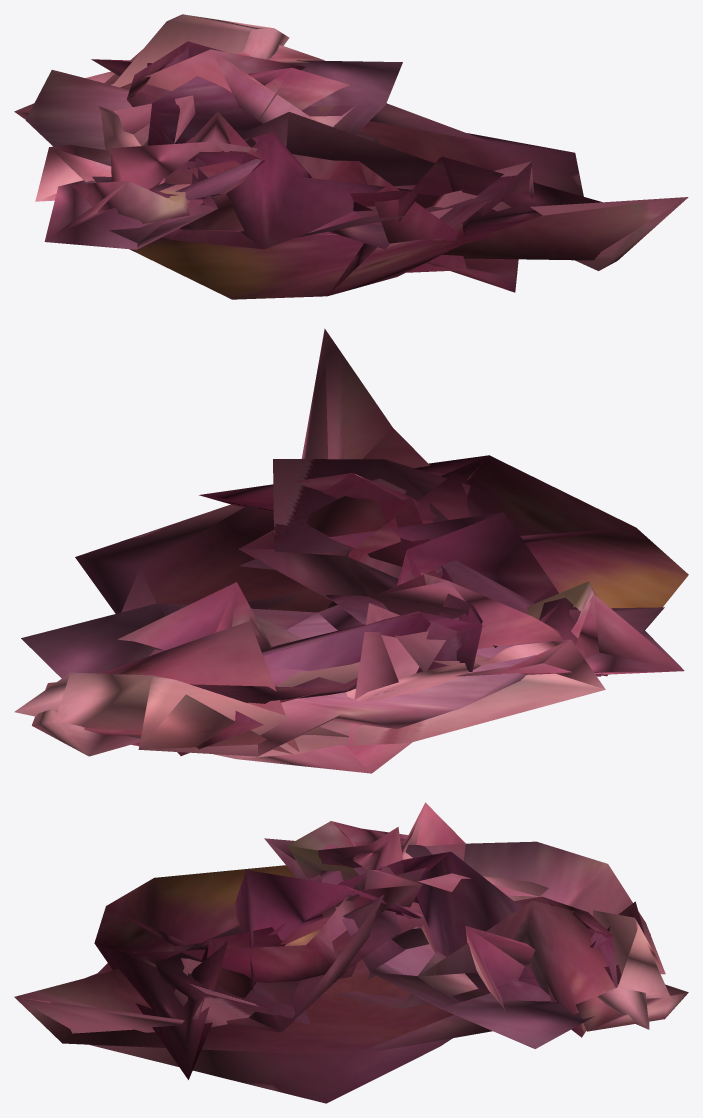
Rendered from Diced_Potato_with_Potato_and_Red_potato.obj.
The picture shows the model from 3 angles, top to bottom: view 1: azimuth 30°, elevation 25°; view 2: azimuth 150°, elevation 25°; view 3: azimuth 270°, elevation 25°; orthographic projection. The views are drawn at different scales.
Parts seen in each view (by area): view 1: Diced_Potato_with_Potato_and_Red_potato_red_potato; view 2: Diced_Potato_with_Potato_and_Red_potato_red_potato; view 3: Diced_Potato_with_Potato_and_Red_potato_red_potato.
Part boxes in pixels (x1=…): Diced_Potato_with_Potato_and_Red_potato_red_potato: x1=14, y1=14, x2=688, y2=299; Diced_Potato_with_Potato_and_Red_potato_red_potato: x1=14, y1=328, x2=688, y2=773; Diced_Potato_with_Potato_and_Red_potato_red_potato: x1=14, y1=802, x2=688, y2=1103.
Size of the model in its own units: 0.1158 by 0.0189 by 0.1347.
1 material, 1 textured.
